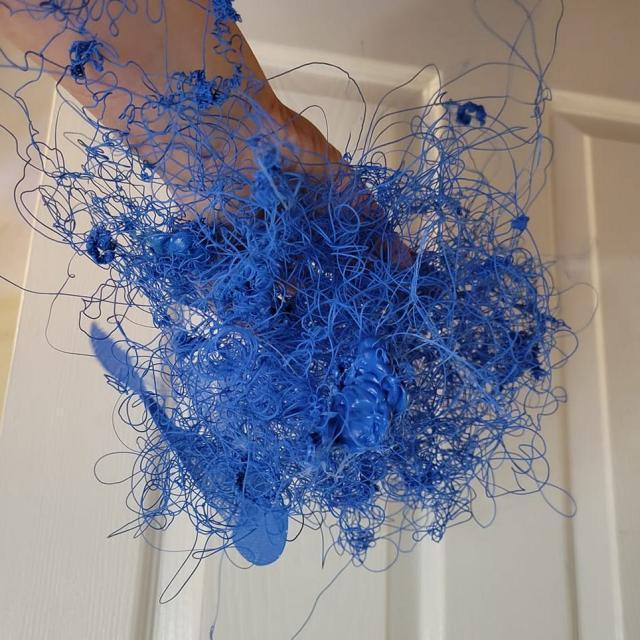spaghetti: (189, 176, 377, 347), (429, 348, 554, 504), (402, 228, 536, 356), (122, 416, 264, 536), (378, 87, 489, 219), (77, 154, 201, 268), (312, 416, 388, 570), (512, 38, 562, 220), (132, 66, 234, 143), (45, 0, 128, 92), (17, 156, 96, 234), (377, 420, 431, 512)
